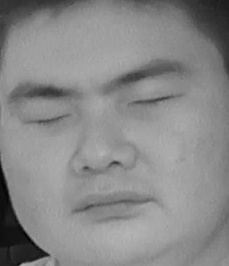blink: (129, 84, 182, 120), (24, 102, 78, 136)
mouth: (65, 181, 155, 230)
